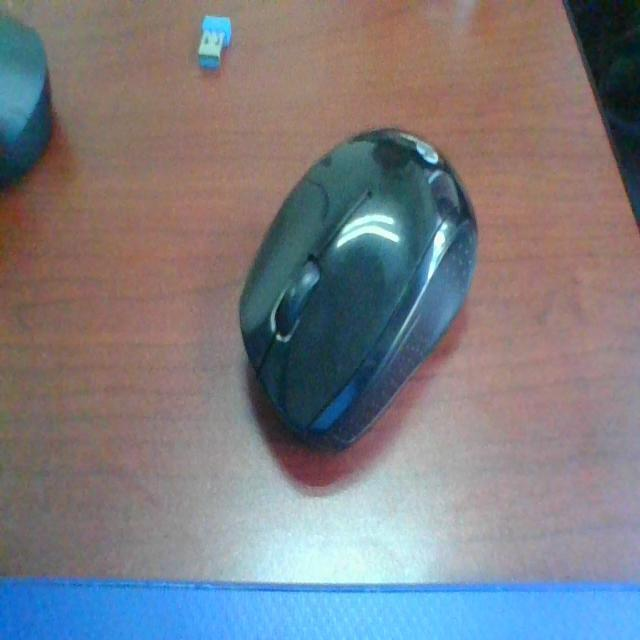Mouse: (240, 108, 510, 511)
